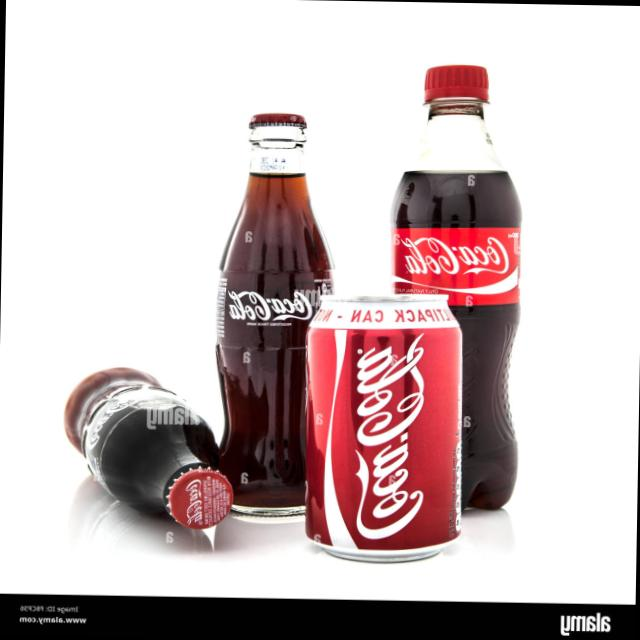cocacola: (277, 286, 465, 572)
